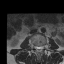CCS_normal: (38, 43, 40, 53)
LFS_normal: (42, 43, 44, 51)
LLS_normal: (40, 43, 42, 53)
RFS_normal: (33, 43, 35, 50)
RLS_normal: (35, 43, 37, 52)
